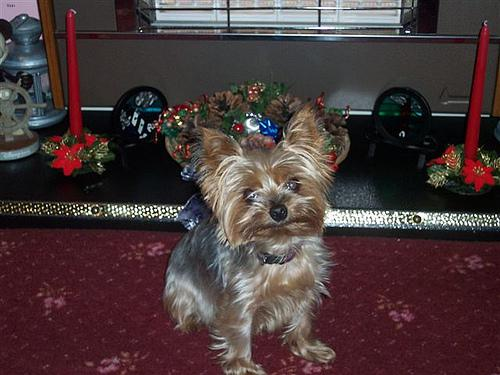dog: (204, 105, 317, 237)
